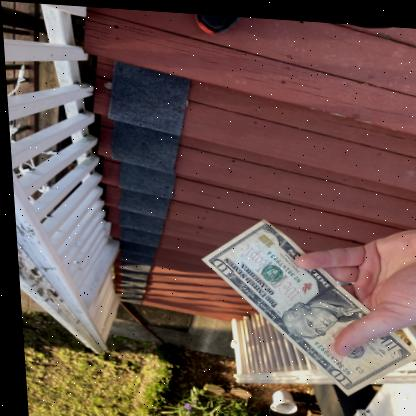ten-front: (203, 217, 412, 397)
